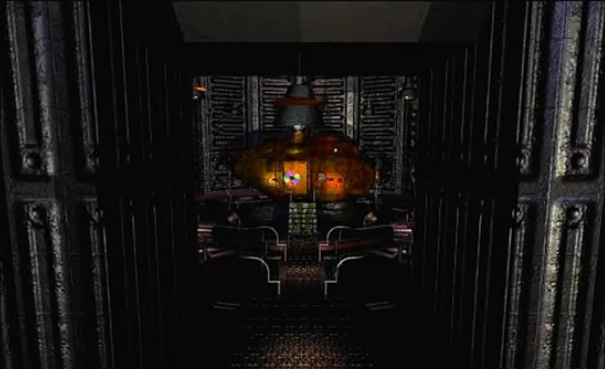Waiting: (281, 166, 303, 189)
